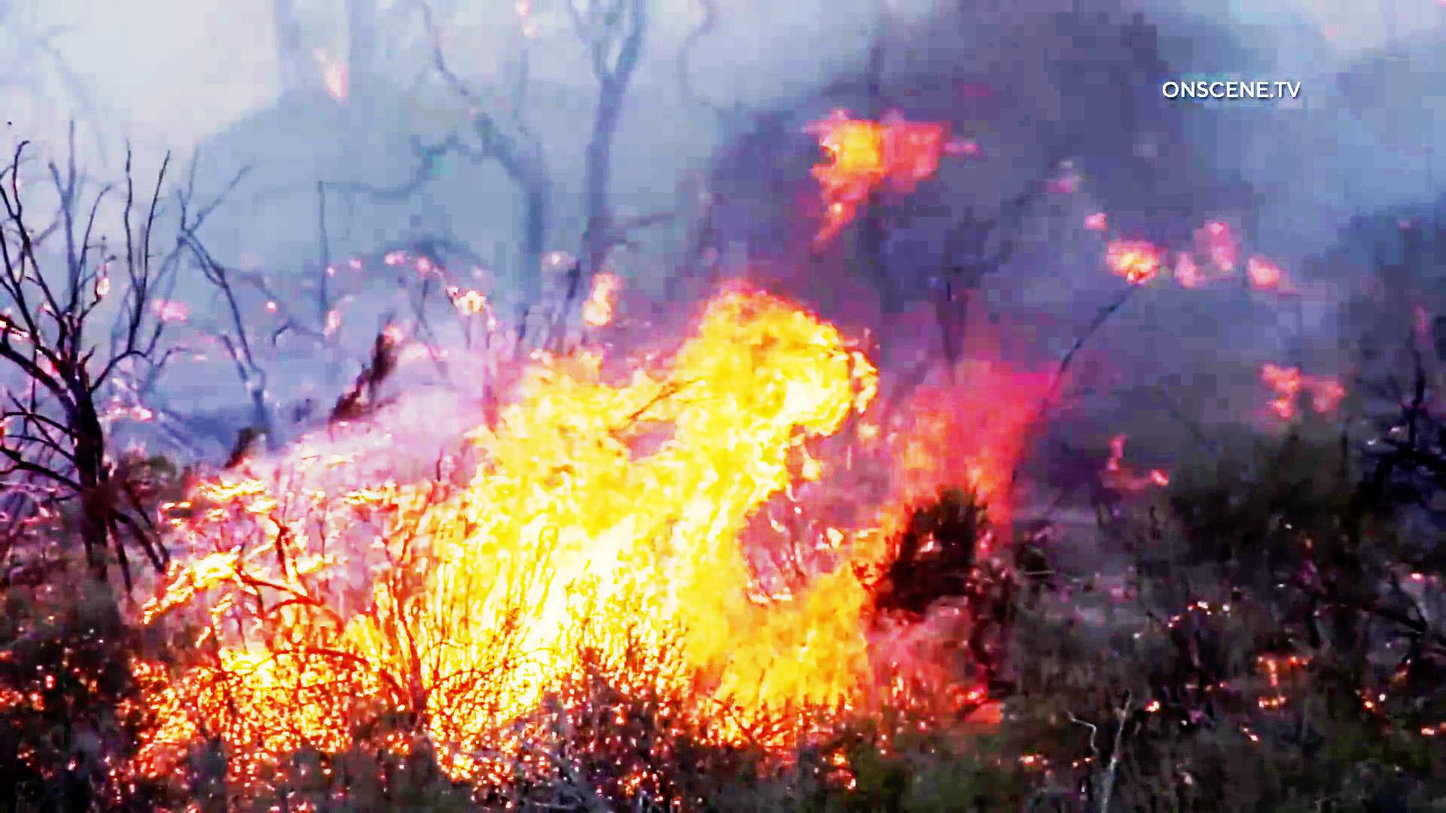fire: (362, 326, 836, 726)
